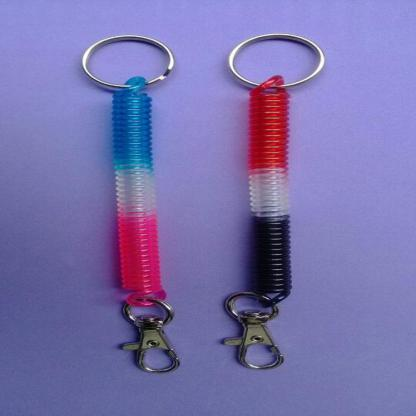FOD: (101, 72, 169, 308)
